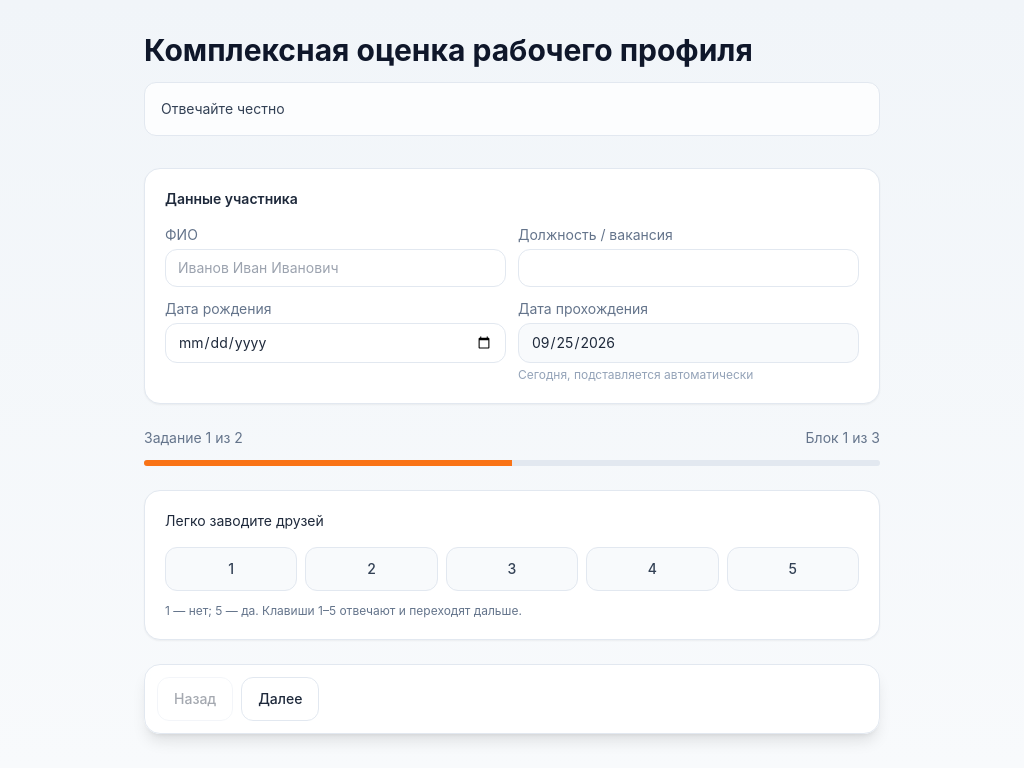
Test: PsychTakePage › blocks next question without answer
Click the button "Далее" at (280, 698), box [241, 676, 320, 720]
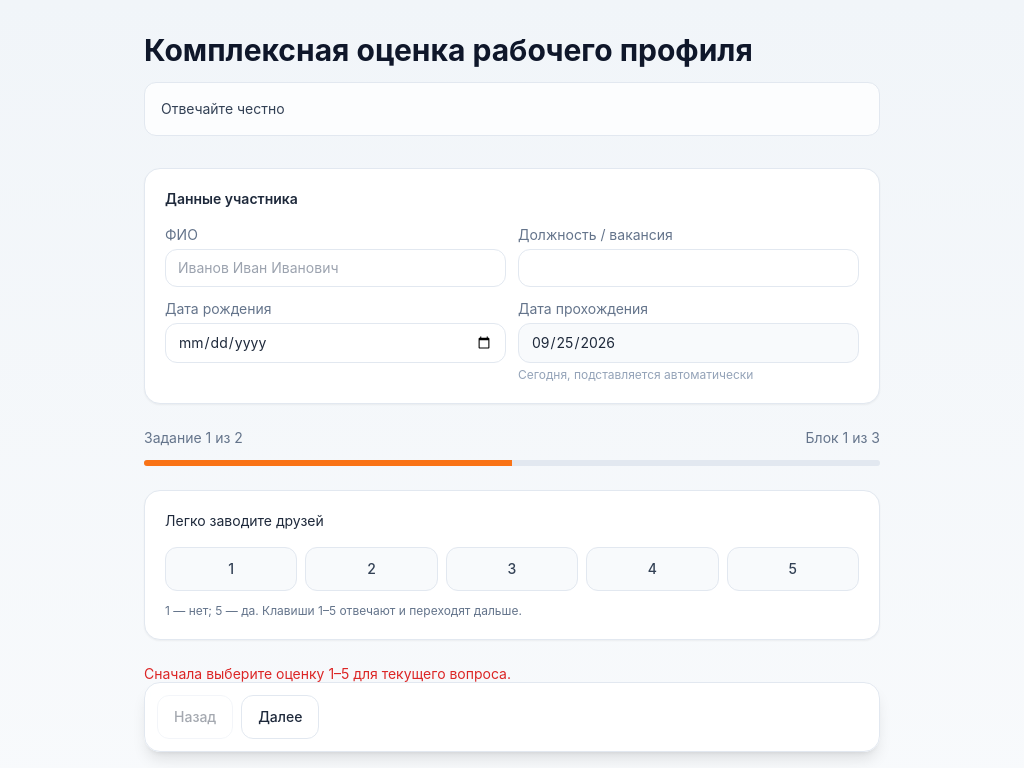
Expected: the element with test id "psych-item-2" is shown, [144, 490, 880, 640]
Expected: the message shows "1–5", [144, 664, 511, 682]
